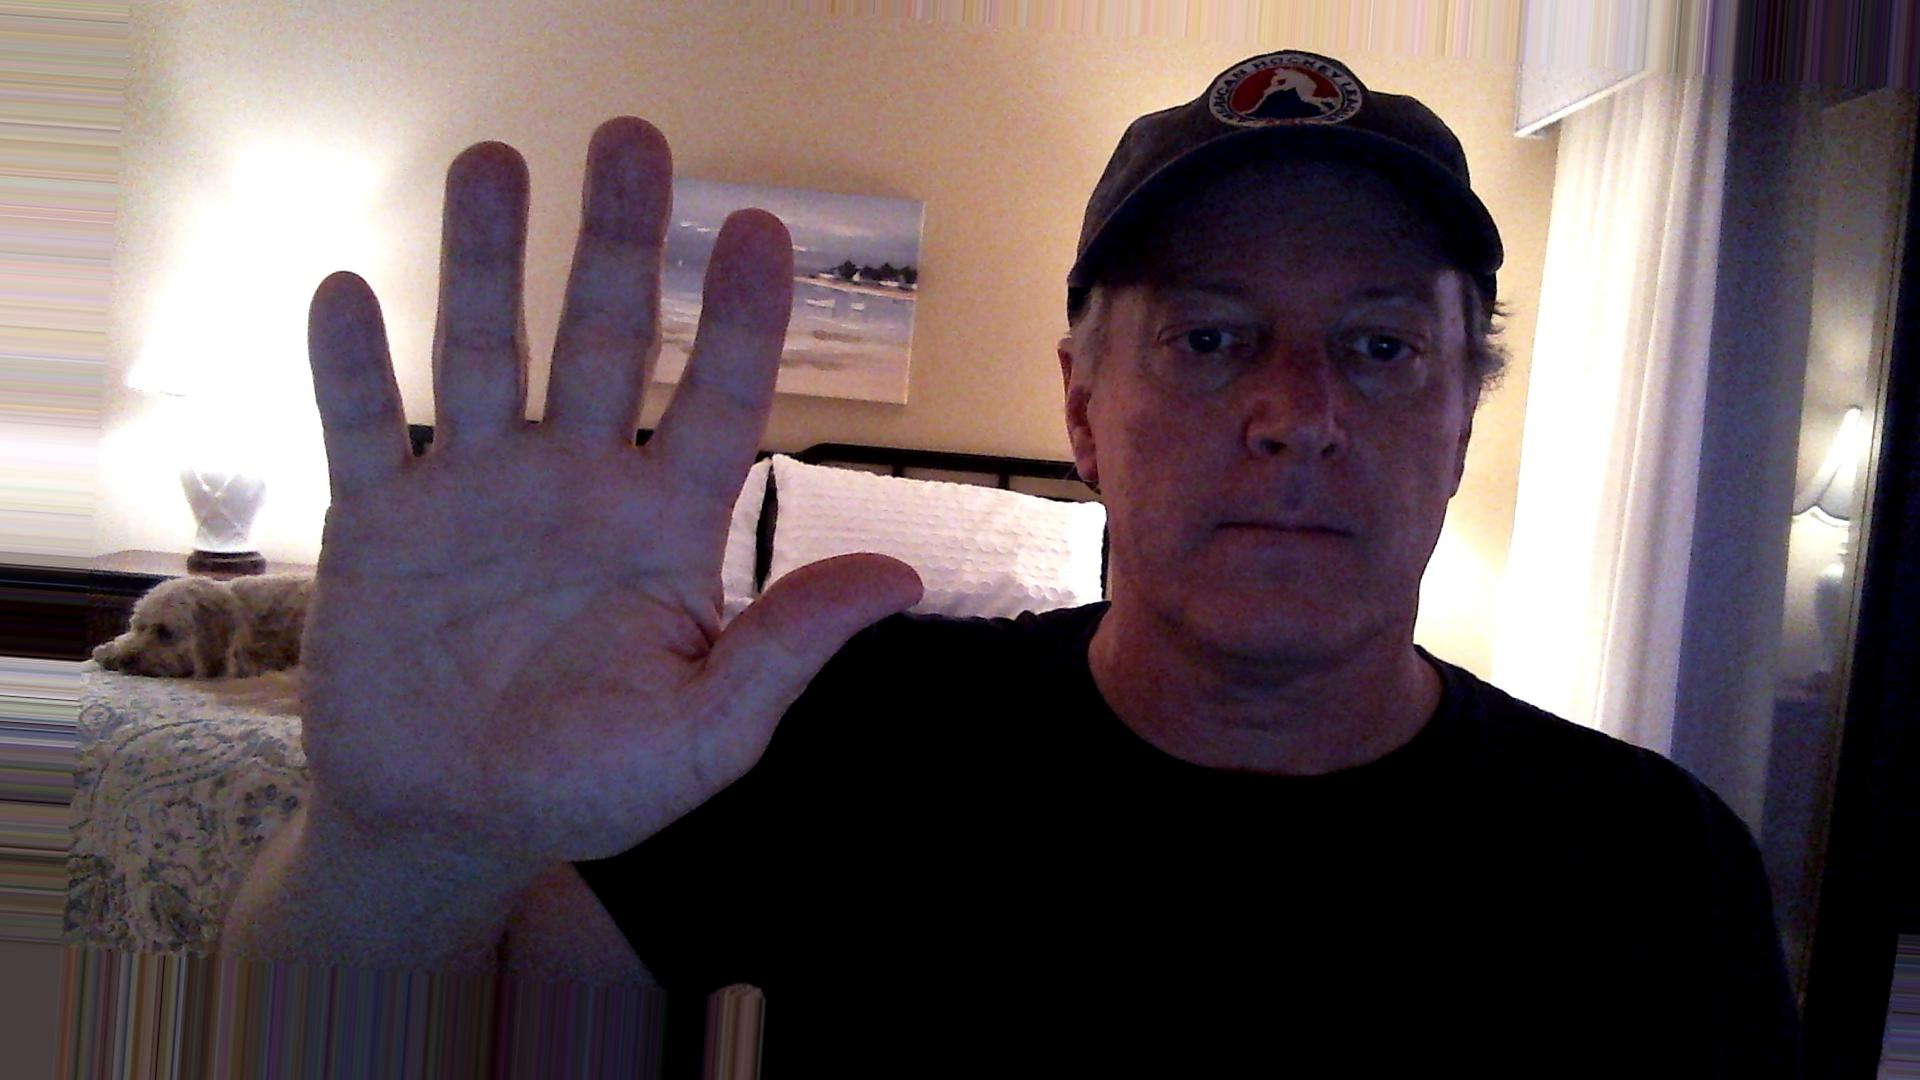Hello: (295, 102, 935, 890)
